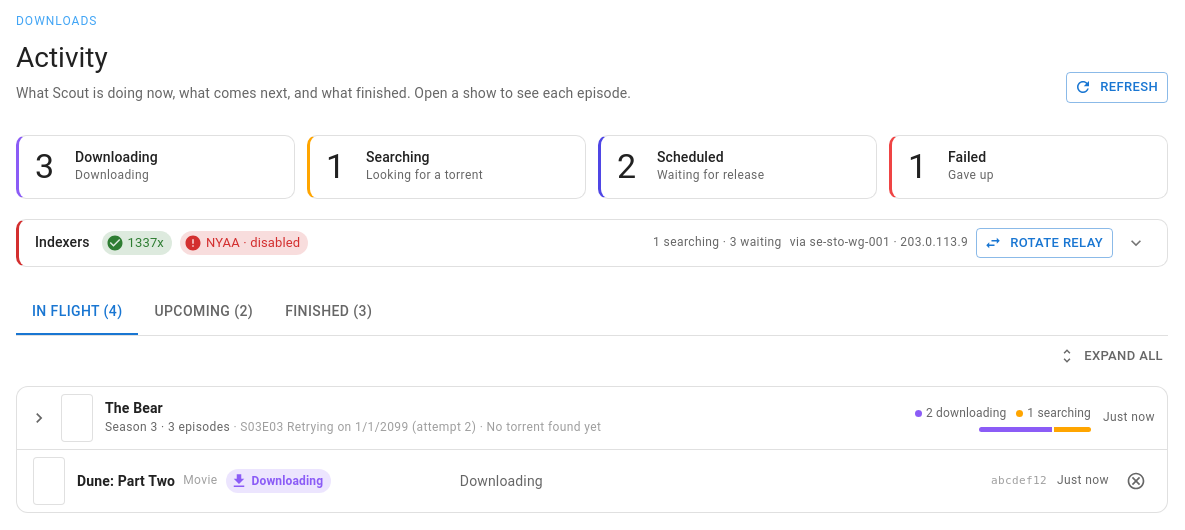
Test: Activity page › lists upcoming rows by show with when the next one releases
Click the tab "Upcoming (2)" at (204, 311), box [138,287,269,335]
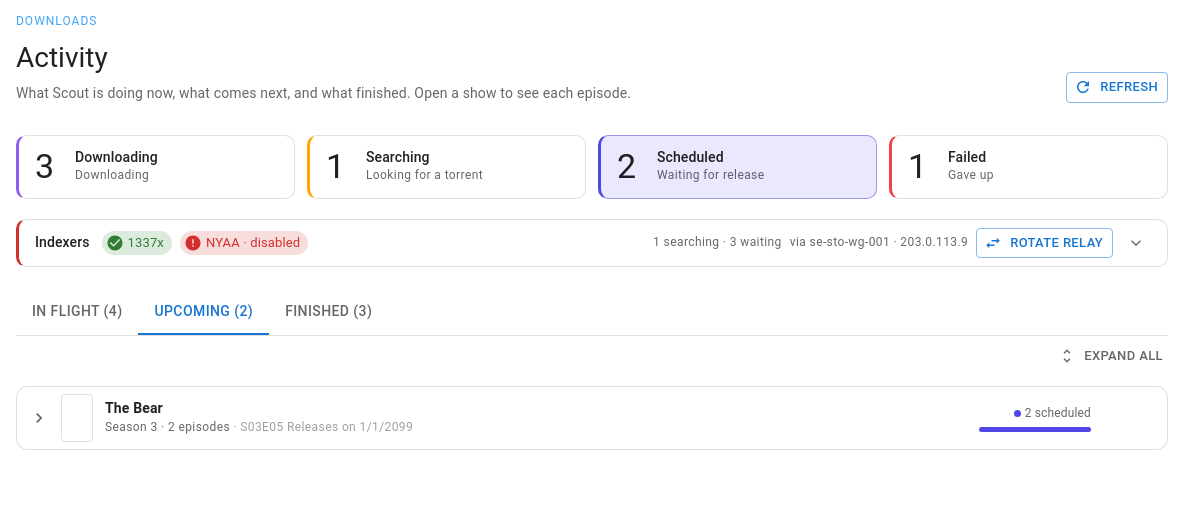
Check: the button "Expand all" is shown, box [1055,341,1168,372]
Check: the button "The Bear" shows "2 episodes", box [17,387,1167,449]
Check: the button "The Bear" shows "S03E05 Releases on", box [17,387,1167,449]
